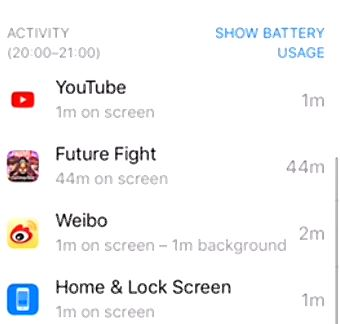activity: (4, 25, 110, 63)
app: (7, 73, 334, 129), (2, 140, 329, 196), (1, 209, 328, 265), (1, 268, 328, 324)
